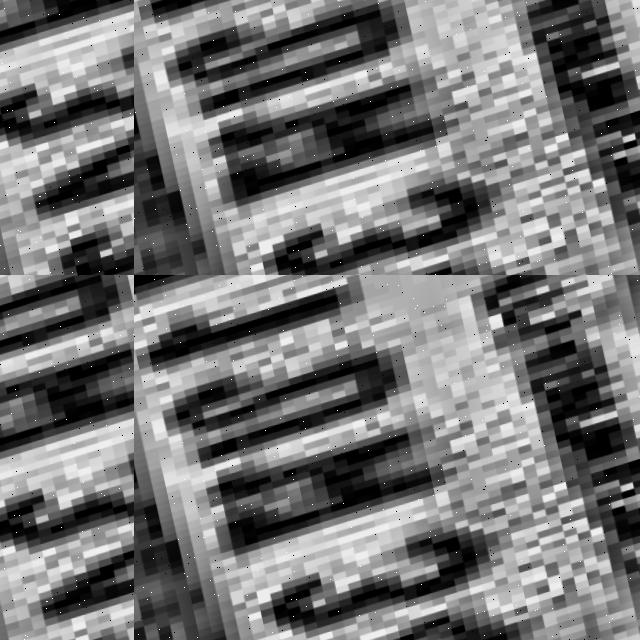license-plate: (134, 275, 640, 640), (134, 0, 640, 275), (0, 275, 134, 640), (0, 0, 134, 275)
